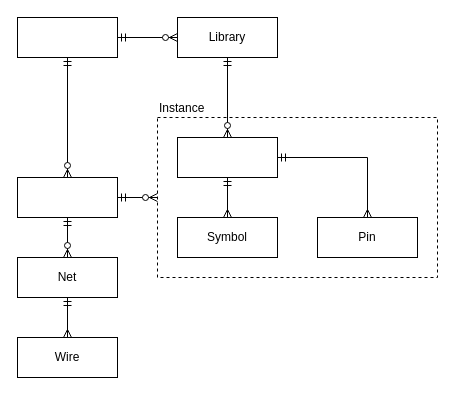
Image size: 455x395. Some labels were removed from this diagram. The box of each missing label's shape, as (x1, y1, x2, y2) in pixels:
Component: (176, 136, 278, 178)
Document: (16, 16, 118, 58)
Schematic: (16, 176, 118, 218)
